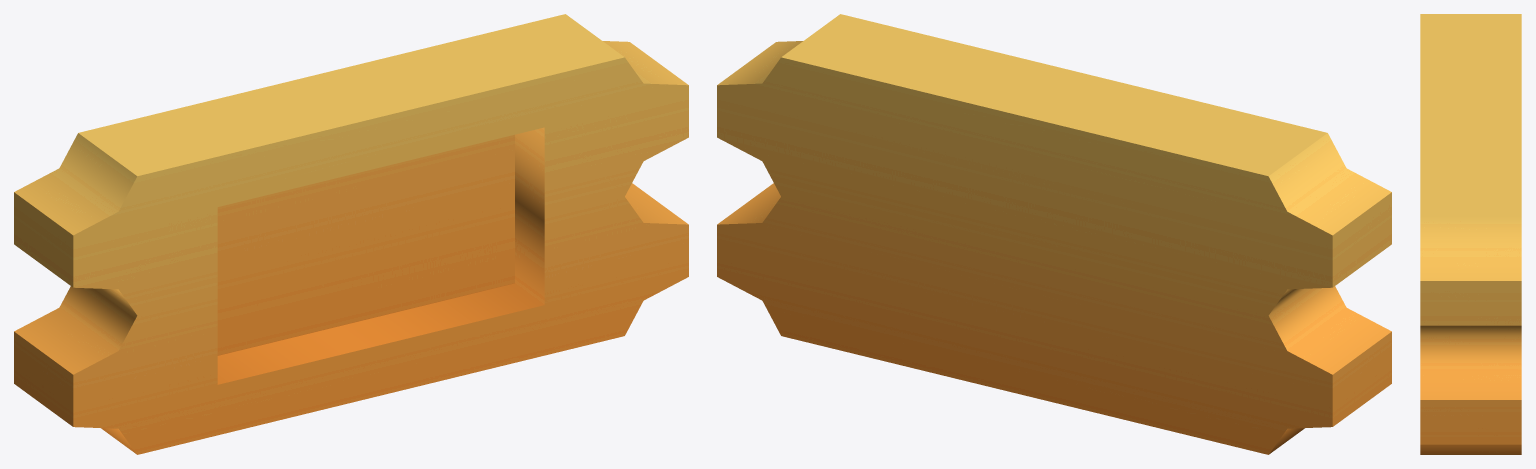
Rendered from rotate-y.001_lev2.glb.
3 renders of one model, left to right at view 1: azimuth 30°, elevation 25°; view 2: azimuth 150°, elevation 25°; view 3: azimuth 270°, elevation 25°, orthographic. The views are drawn at different scales.
Visible parts, largest first — view 1: rotate-y.001_lev2; view 2: rotate-y.001_lev2; view 3: rotate-y.001_lev2.
Part boxes in pixels (x1,y1,x2,y2): rotate-y.001_lev2: (14, 14, 688, 454); rotate-y.001_lev2: (717, 14, 1391, 454); rotate-y.001_lev2: (1420, 14, 1521, 454).
Size of the model in its own units: 1.86 by 0.8027 by 0.3093.
1 material, 1 textured.
